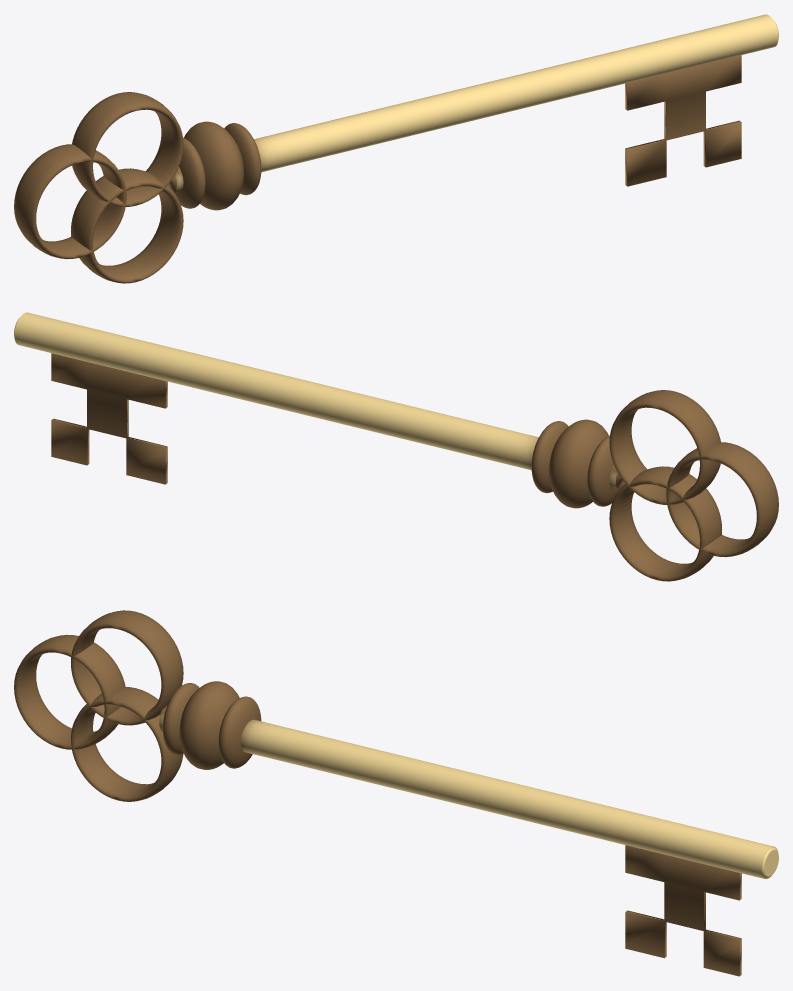
The model's file is garden key.glb.
The picture shows the model from 3 angles, top to bottom: view 1: azimuth 30°, elevation 25°; view 2: azimuth 150°, elevation 25°; view 3: azimuth 330°, elevation 25°; orthographic projection.
Visible parts, largest first — view 1: key; view 2: key; view 3: key.
Part boxes in pixels (<box>): key: <box>14,14,778,283</box>; key: <box>14,312,778,581</box>; key: <box>14,610,778,976</box>.
Size of the model in its own units: 1.28 by 0.3418 by 0.1318.
1 material, 1 textured.
